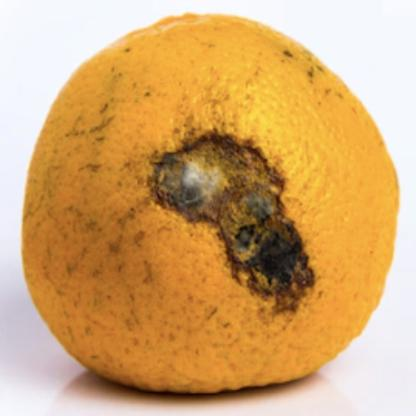rotten: (25, 13, 401, 392)
